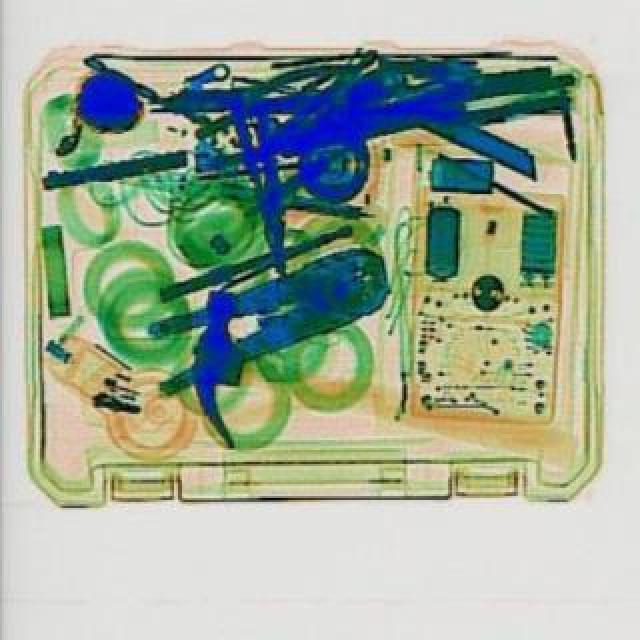wrench: (132, 238, 404, 396), (186, 62, 382, 172), (226, 88, 298, 268)
